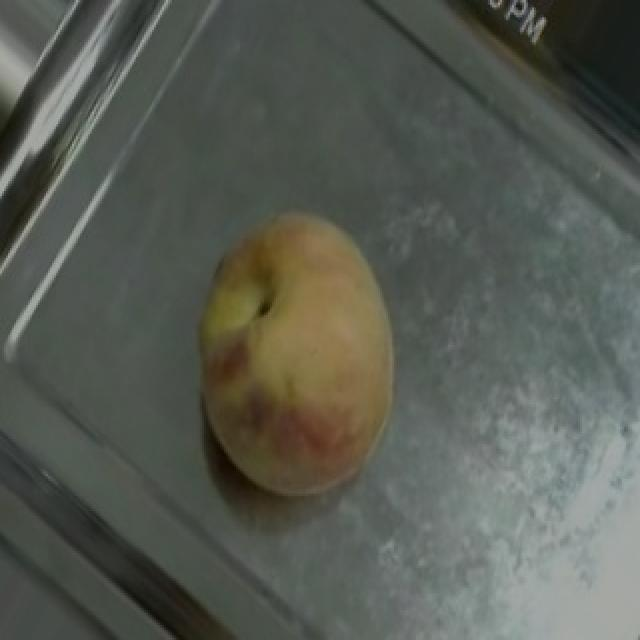Fruit: (146, 171, 444, 531)
